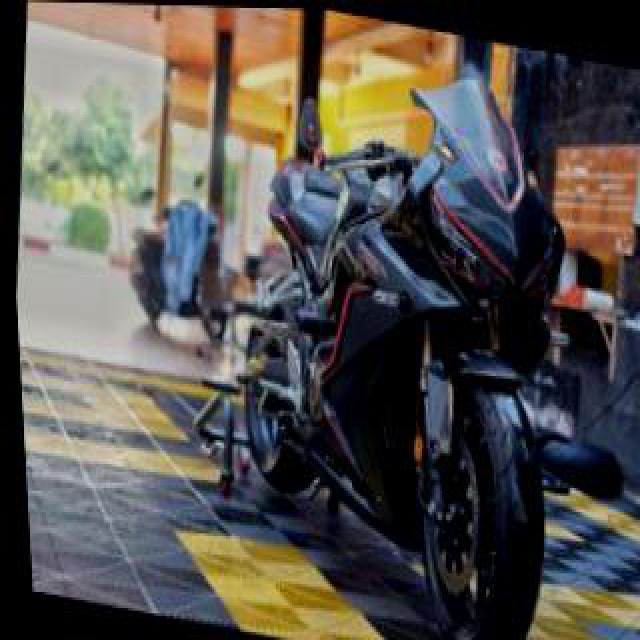CBR650R: (194, 27, 588, 637)
